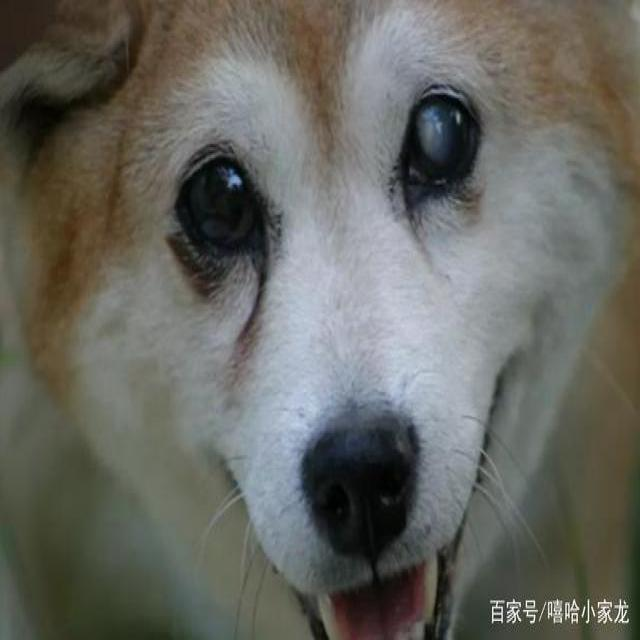eye: (170, 137, 275, 268), (392, 74, 488, 209)
